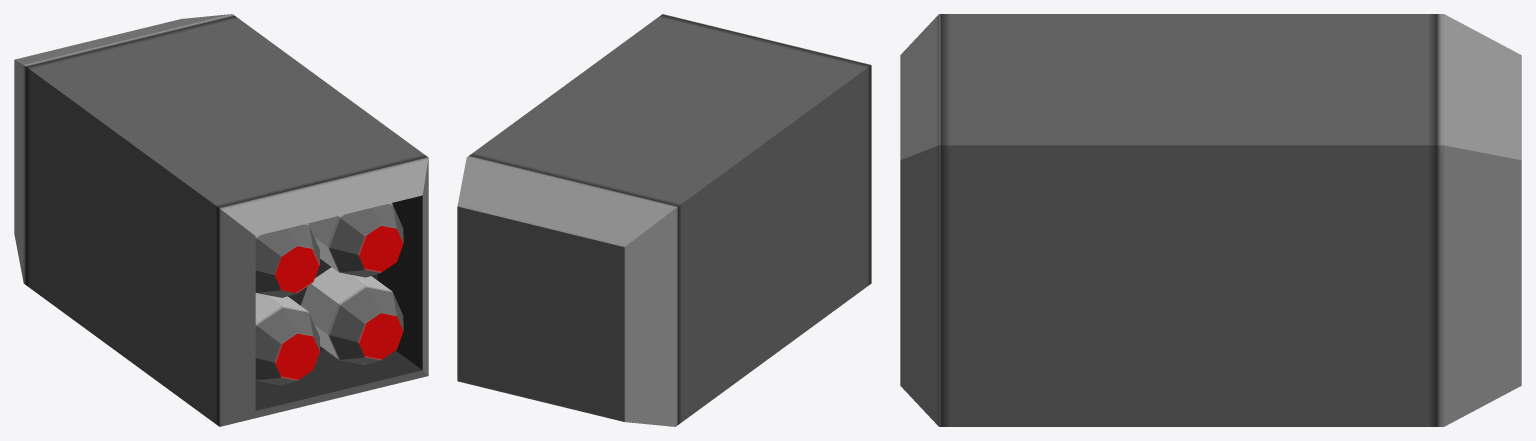
File: pod03.obj
The picture shows the model from 3 angles, left to right: view 1: azimuth 30°, elevation 25°; view 2: azimuth 150°, elevation 25°; view 3: azimuth 270°, elevation 25°; orthographic projection. The views are drawn at different scales.
Visible parts, largest first — view 1: pod03_Cube.002; view 2: pod03_Cube.002; view 3: pod03_Cube.002.
Boxes of the visible parts, x1,y1,x2,y2 form: pod03_Cube.002: (14, 14, 428, 426); pod03_Cube.002: (457, 14, 871, 426); pod03_Cube.002: (900, 14, 1521, 426).
Size of the model in its own units: 0.24 by 0.24 by 0.48.
Materials: 1 (1 with a texture image).
